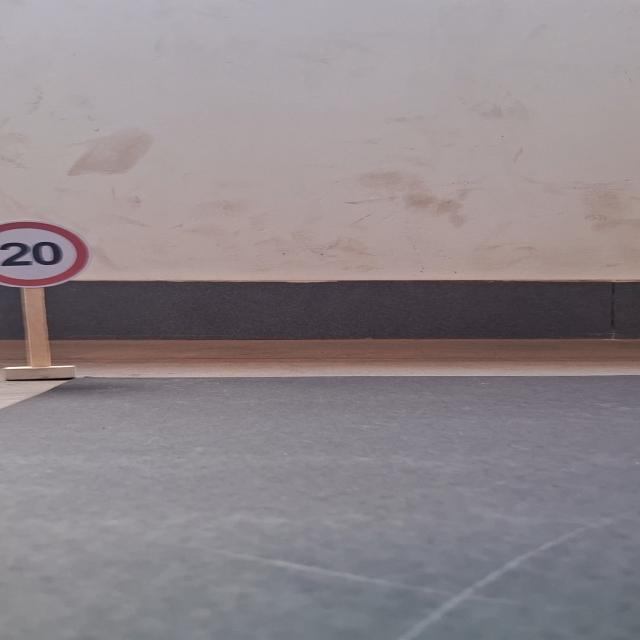Speed20: (0, 212, 103, 295)
